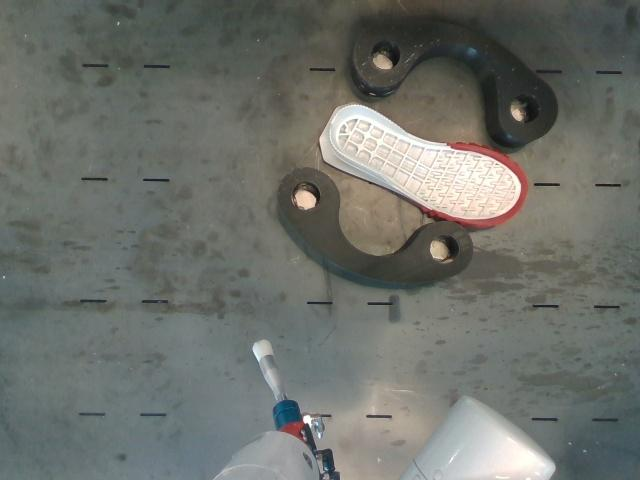shoes: (330, 106, 528, 225)
